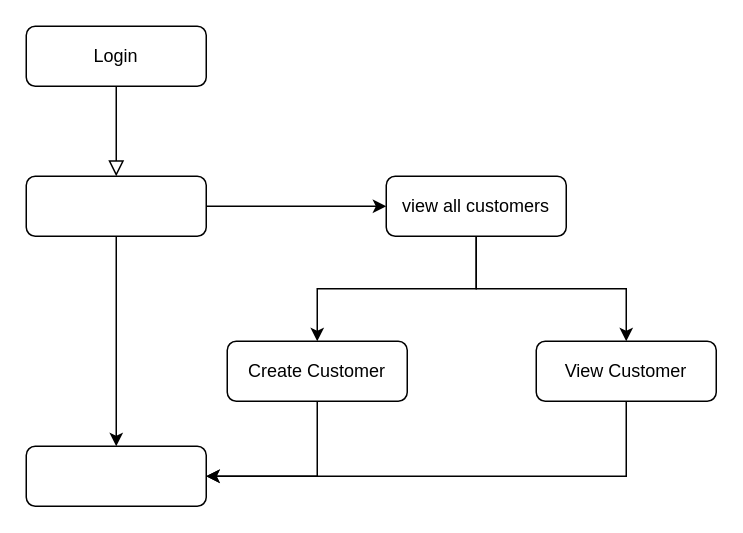
The diagram is 743 pixels wide and 533 high, and some of its shapes have lost their labels. Each missing label, with the centre of its shape:
"Dashboard" goes at pixel 115 205.
"Logout" goes at pixel 115 475.
